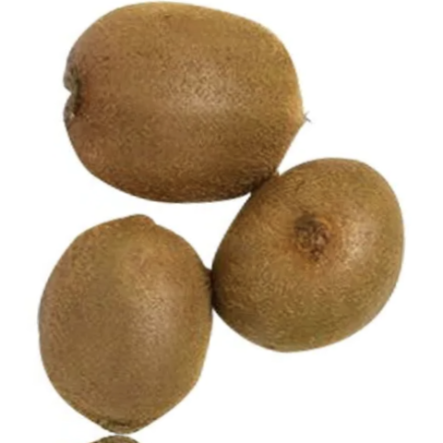kiwi: (30, 0, 334, 225), (186, 131, 429, 385), (6, 193, 221, 441)
